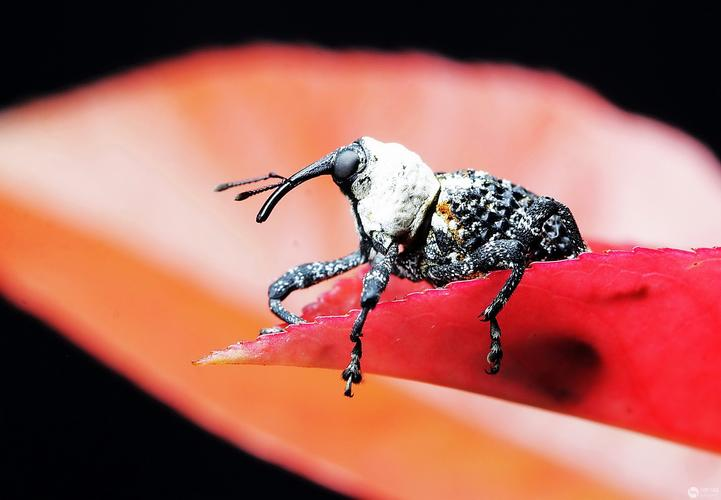Curculionidae: (213, 135, 586, 398)
